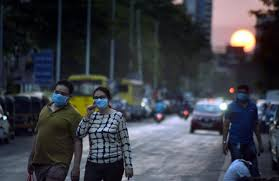mask: (51, 78, 69, 104), (92, 83, 108, 111), (234, 85, 250, 102)
